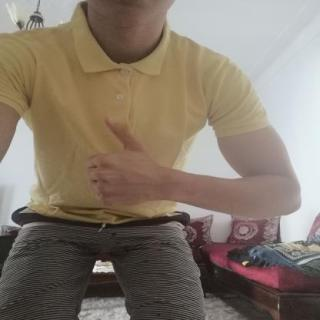ALIF: (72, 103, 180, 214)
